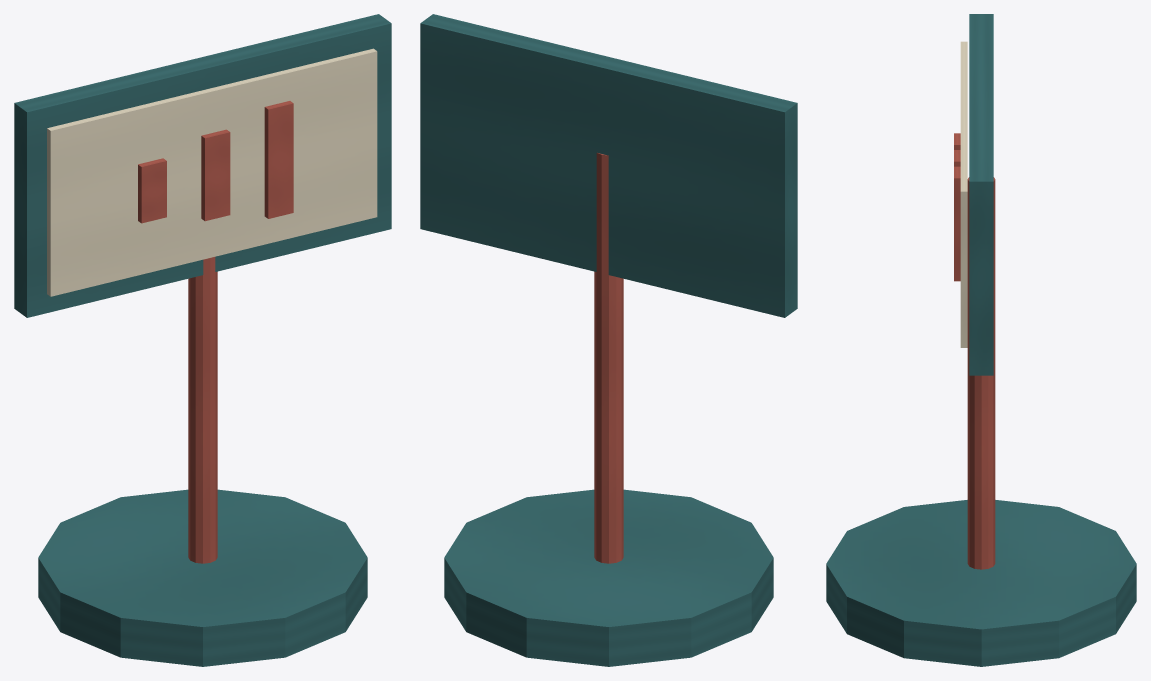
The model's file is atlas100-s033-a11.glb.
The picture shows the model from 3 angles, left to right: view 1: azimuth 30°, elevation 25°; view 2: azimuth 150°, elevation 25°; view 3: azimuth 270°, elevation 25°; orthographic projection. The views are drawn at different scales.
Visible parts, largest first — view 1: atlas100-s033-a11:part-003, atlas100-s033-a11:part-000, atlas100-s033-a11:part-002, atlas100-s033-a11:part-001, atlas100-s033-a11:part-006, atlas100-s033-a11:part-005, atlas100-s033-a11:part-004; view 2: atlas100-s033-a11:part-002, atlas100-s033-a11:part-000, atlas100-s033-a11:part-001; view 3: atlas100-s033-a11:part-000, atlas100-s033-a11:part-002, atlas100-s033-a11:part-001, atlas100-s033-a11:part-003, atlas100-s033-a11:part-006.
Boxes of the visible parts, x1=… form: atlas100-s033-a11:part-003: x1=47, y1=48, x2=377, y2=296; atlas100-s033-a11:part-000: x1=38, y1=489, x2=367, y2=666; atlas100-s033-a11:part-002: x1=14, y1=14, x2=391, y2=317; atlas100-s033-a11:part-001: x1=188, y1=257, x2=217, y2=563; atlas100-s033-a11:part-006: x1=264, y1=101, x2=293, y2=218; atlas100-s033-a11:part-005: x1=201, y1=129, x2=230, y2=221; atlas100-s033-a11:part-004: x1=138, y1=158, x2=166, y2=223; atlas100-s033-a11:part-002: x1=420, y1=14, x2=797, y2=317; atlas100-s033-a11:part-000: x1=444, y1=489, x2=773, y2=666; atlas100-s033-a11:part-001: x1=594, y1=153, x2=623, y2=563; atlas100-s033-a11:part-000: x1=826, y1=500, x2=1136, y2=666; atlas100-s033-a11:part-002: x1=969, y1=14, x2=993, y2=375; atlas100-s033-a11:part-001: x1=967, y1=177, x2=995, y2=569; atlas100-s033-a11:part-003: x1=960, y1=41, x2=967, y2=347; atlas100-s033-a11:part-006: x1=954, y1=166, x2=960, y2=281.
Size of the model in its own units: 1.15 by 1.61 by 0.9.
Materials: 3 (3 with a texture image).
